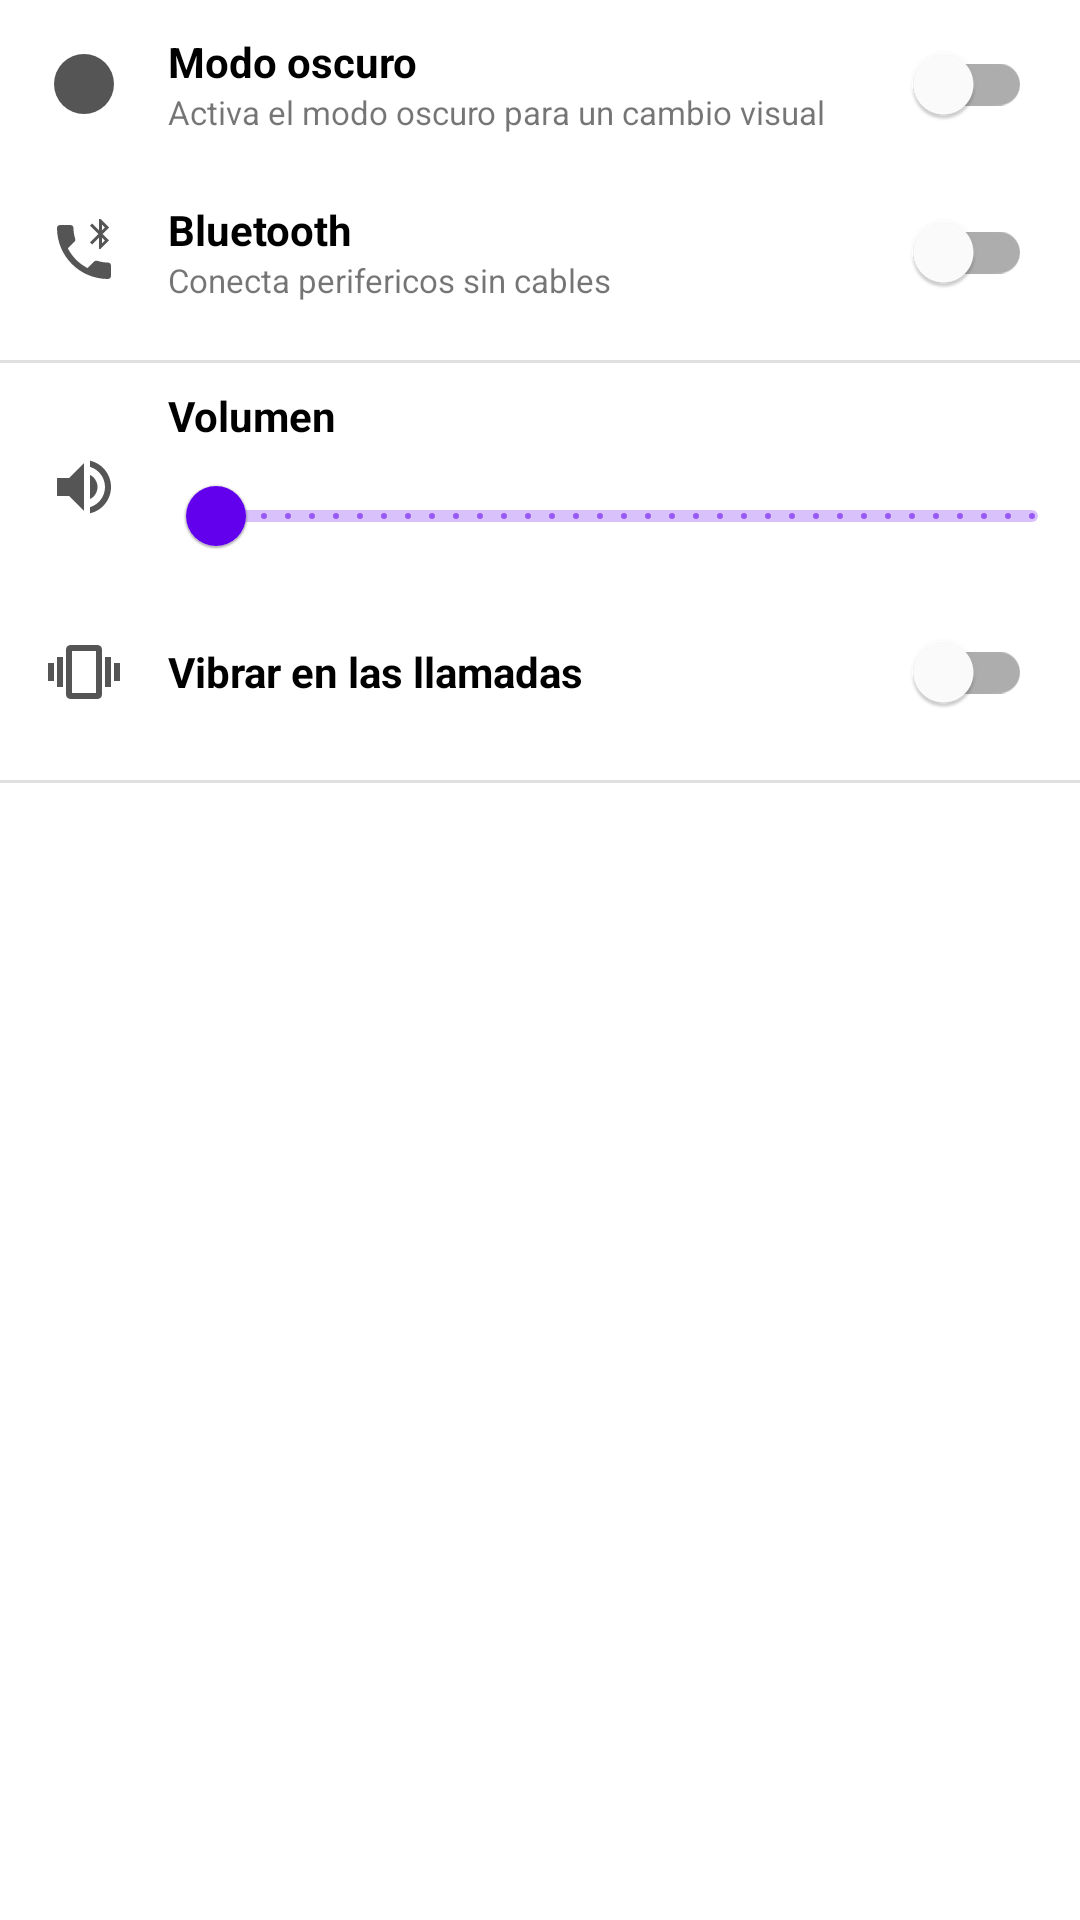

Named icons in this screenshot (1080px x 1920px) and their centers, [x,y]:
vibration: [84,672]
